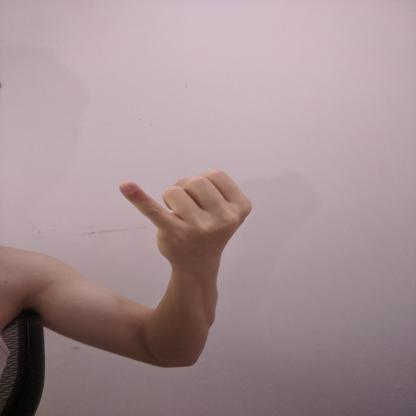J: (112, 165, 257, 270)
